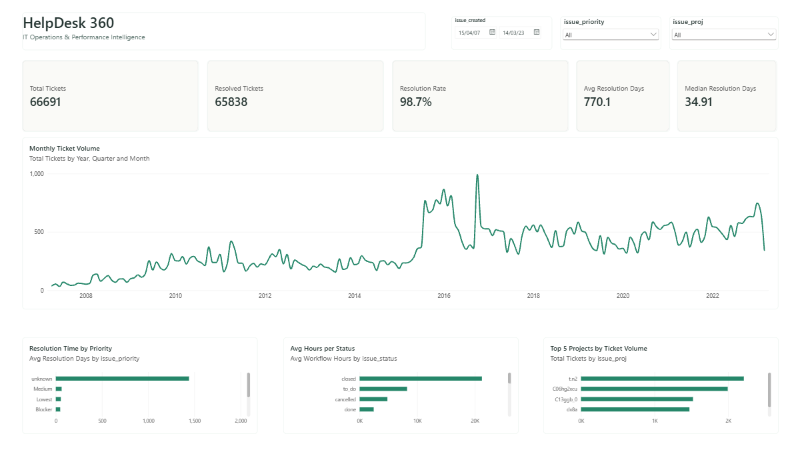

Layout of this report page (visuals, bound fields, positions):
{"tool":"powerbi","page":{"name":"Operations Overview","canvas":[1920,1080],"ordinal":0},"visuals":[{"type":"textbox","box":[60,35,960,90],"z":0},{"type":"cardVisual","fields":{"Data":["issues.Total Tickets"]},"box":[60,150,420,170],"z":1000},{"type":"cardVisual","fields":{"Data":["issues.Resolved Tickets"]},"box":[500,150,420,170],"z":2000},{"type":"cardVisual","fields":{"Data":["issues.Resolution Rate"]},"box":[940,150,420,170],"z":3000},{"type":"lineChart","title":"Monthly Ticket Volume","fields":{"Category":["issues.issue_created.Variation.Date Hierarchy.Year","issues.issue_created.Variation.Date Hierarchy.Quarter","issues.issue_created.Variation.Date Hierarchy.Month","issues.issue_created.Variation.Date Hierarchy.Day"],"Y":["issues.Total Tickets"]},"box":[59.5,333.3,1800,409.5],"z":4000},{"type":"cardVisual","fields":{"Data":["QA_Assignee_By_Status.HD Median Resolution Days"]},"box":[1620,150,237.5,170],"z":5000},{"type":"clusteredBarChart","title":"Resolution Time by Priority","fields":{"Category":["issues.issue_priority"],"Y":["issues.Avg Resolution Days"]},"box":[60,810,560,230],"z":6000},{"type":"clusteredBarChart","title":"Avg Hours per Status","fields":{"Category":["issues.issue_status"],"Y":["QA_Assignee_By_Status.Avg Workflow Hours"]},"box":[680,810,560,230],"z":7000},{"type":"clusteredBarChart","title":"Top 5 Projects by Ticket Volume","fields":{"Category":["issues.issue_proj"],"Y":["issues.Total Tickets"]},"box":[1300,810,560,230],"z":8000},{"type":"slicer","fields":{"Values":["issues.issue_created"]},"box":[1080,45,240,80],"z":9000},{"type":"slicer","fields":{"Values":["issues.issue_priority"]},"box":[1340,45,240,80],"z":10000},{"type":"slicer","fields":{"Values":["issues.issue_proj"]},"box":[1600,45,260,80],"z":11000},{"type":"cardVisual","fields":{"Data":["issues.Avg Resolution Days"]},"box":[1377.5,150,222.5,170],"z":12000}]}

Visuals, with their boxes in screenshot pixels (x1, y1, x2, y2), scaled from the page's 1920x1080 canvas onto the 798x451 screenshot:
textbox: (25, 15, 424, 52)
cardVisual - issues.Total Tickets: (25, 63, 200, 134)
cardVisual - issues.Resolved Tickets: (208, 63, 382, 134)
cardVisual - issues.Resolution Rate: (391, 63, 565, 134)
"Monthly Ticket Volume" lineChart: (25, 139, 773, 310)
cardVisual - QA_Assignee_By_Status.HD Median Resolution Days: (673, 63, 772, 134)
"Resolution Time by Priority" clusteredBarChart: (25, 338, 258, 434)
"Avg Hours per Status" clusteredBarChart: (283, 338, 515, 434)
"Top 5 Projects by Ticket Volume" clusteredBarChart: (540, 338, 773, 434)
slicer - issues.issue_created: (449, 19, 549, 52)
slicer - issues.issue_priority: (557, 19, 657, 52)
slicer - issues.issue_proj: (665, 19, 773, 52)
cardVisual - issues.Avg Resolution Days: (573, 63, 665, 134)
